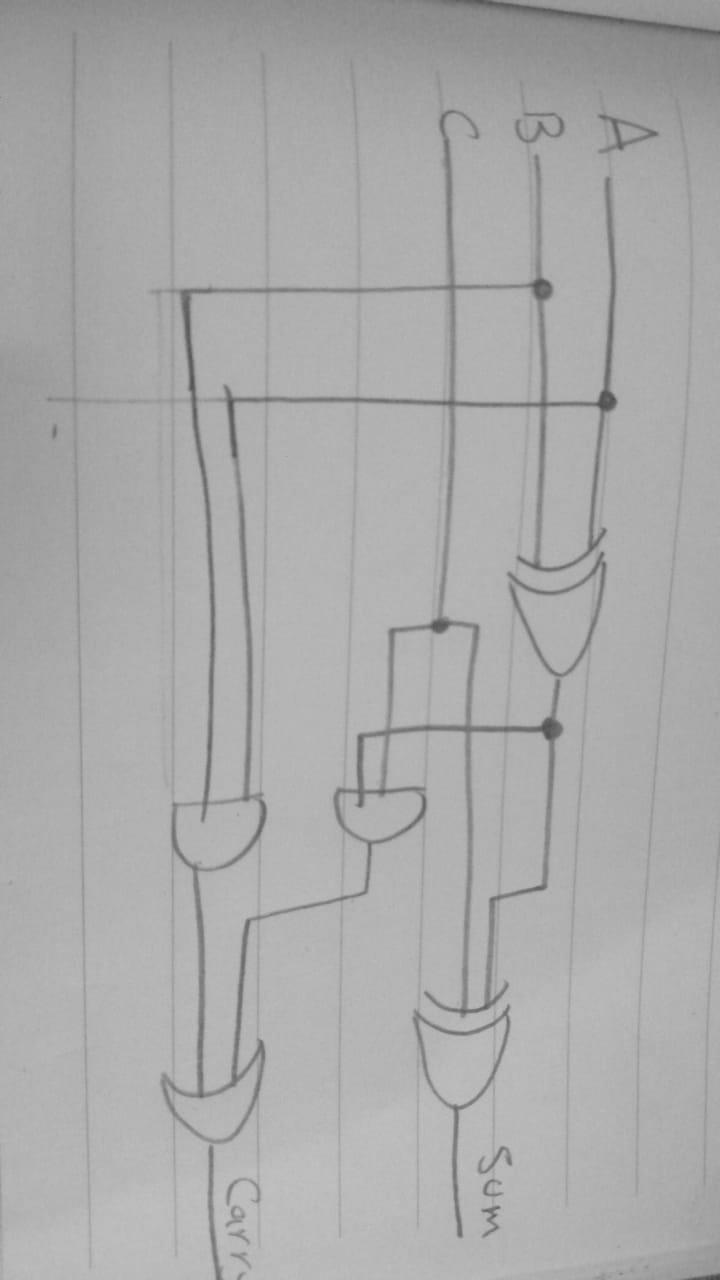AND: (320, 772, 451, 874), (163, 787, 289, 888)
OR: (142, 1048, 310, 1167)
XOR: (492, 538, 653, 700), (405, 975, 533, 1130), (178, 1047, 179, 1049)
